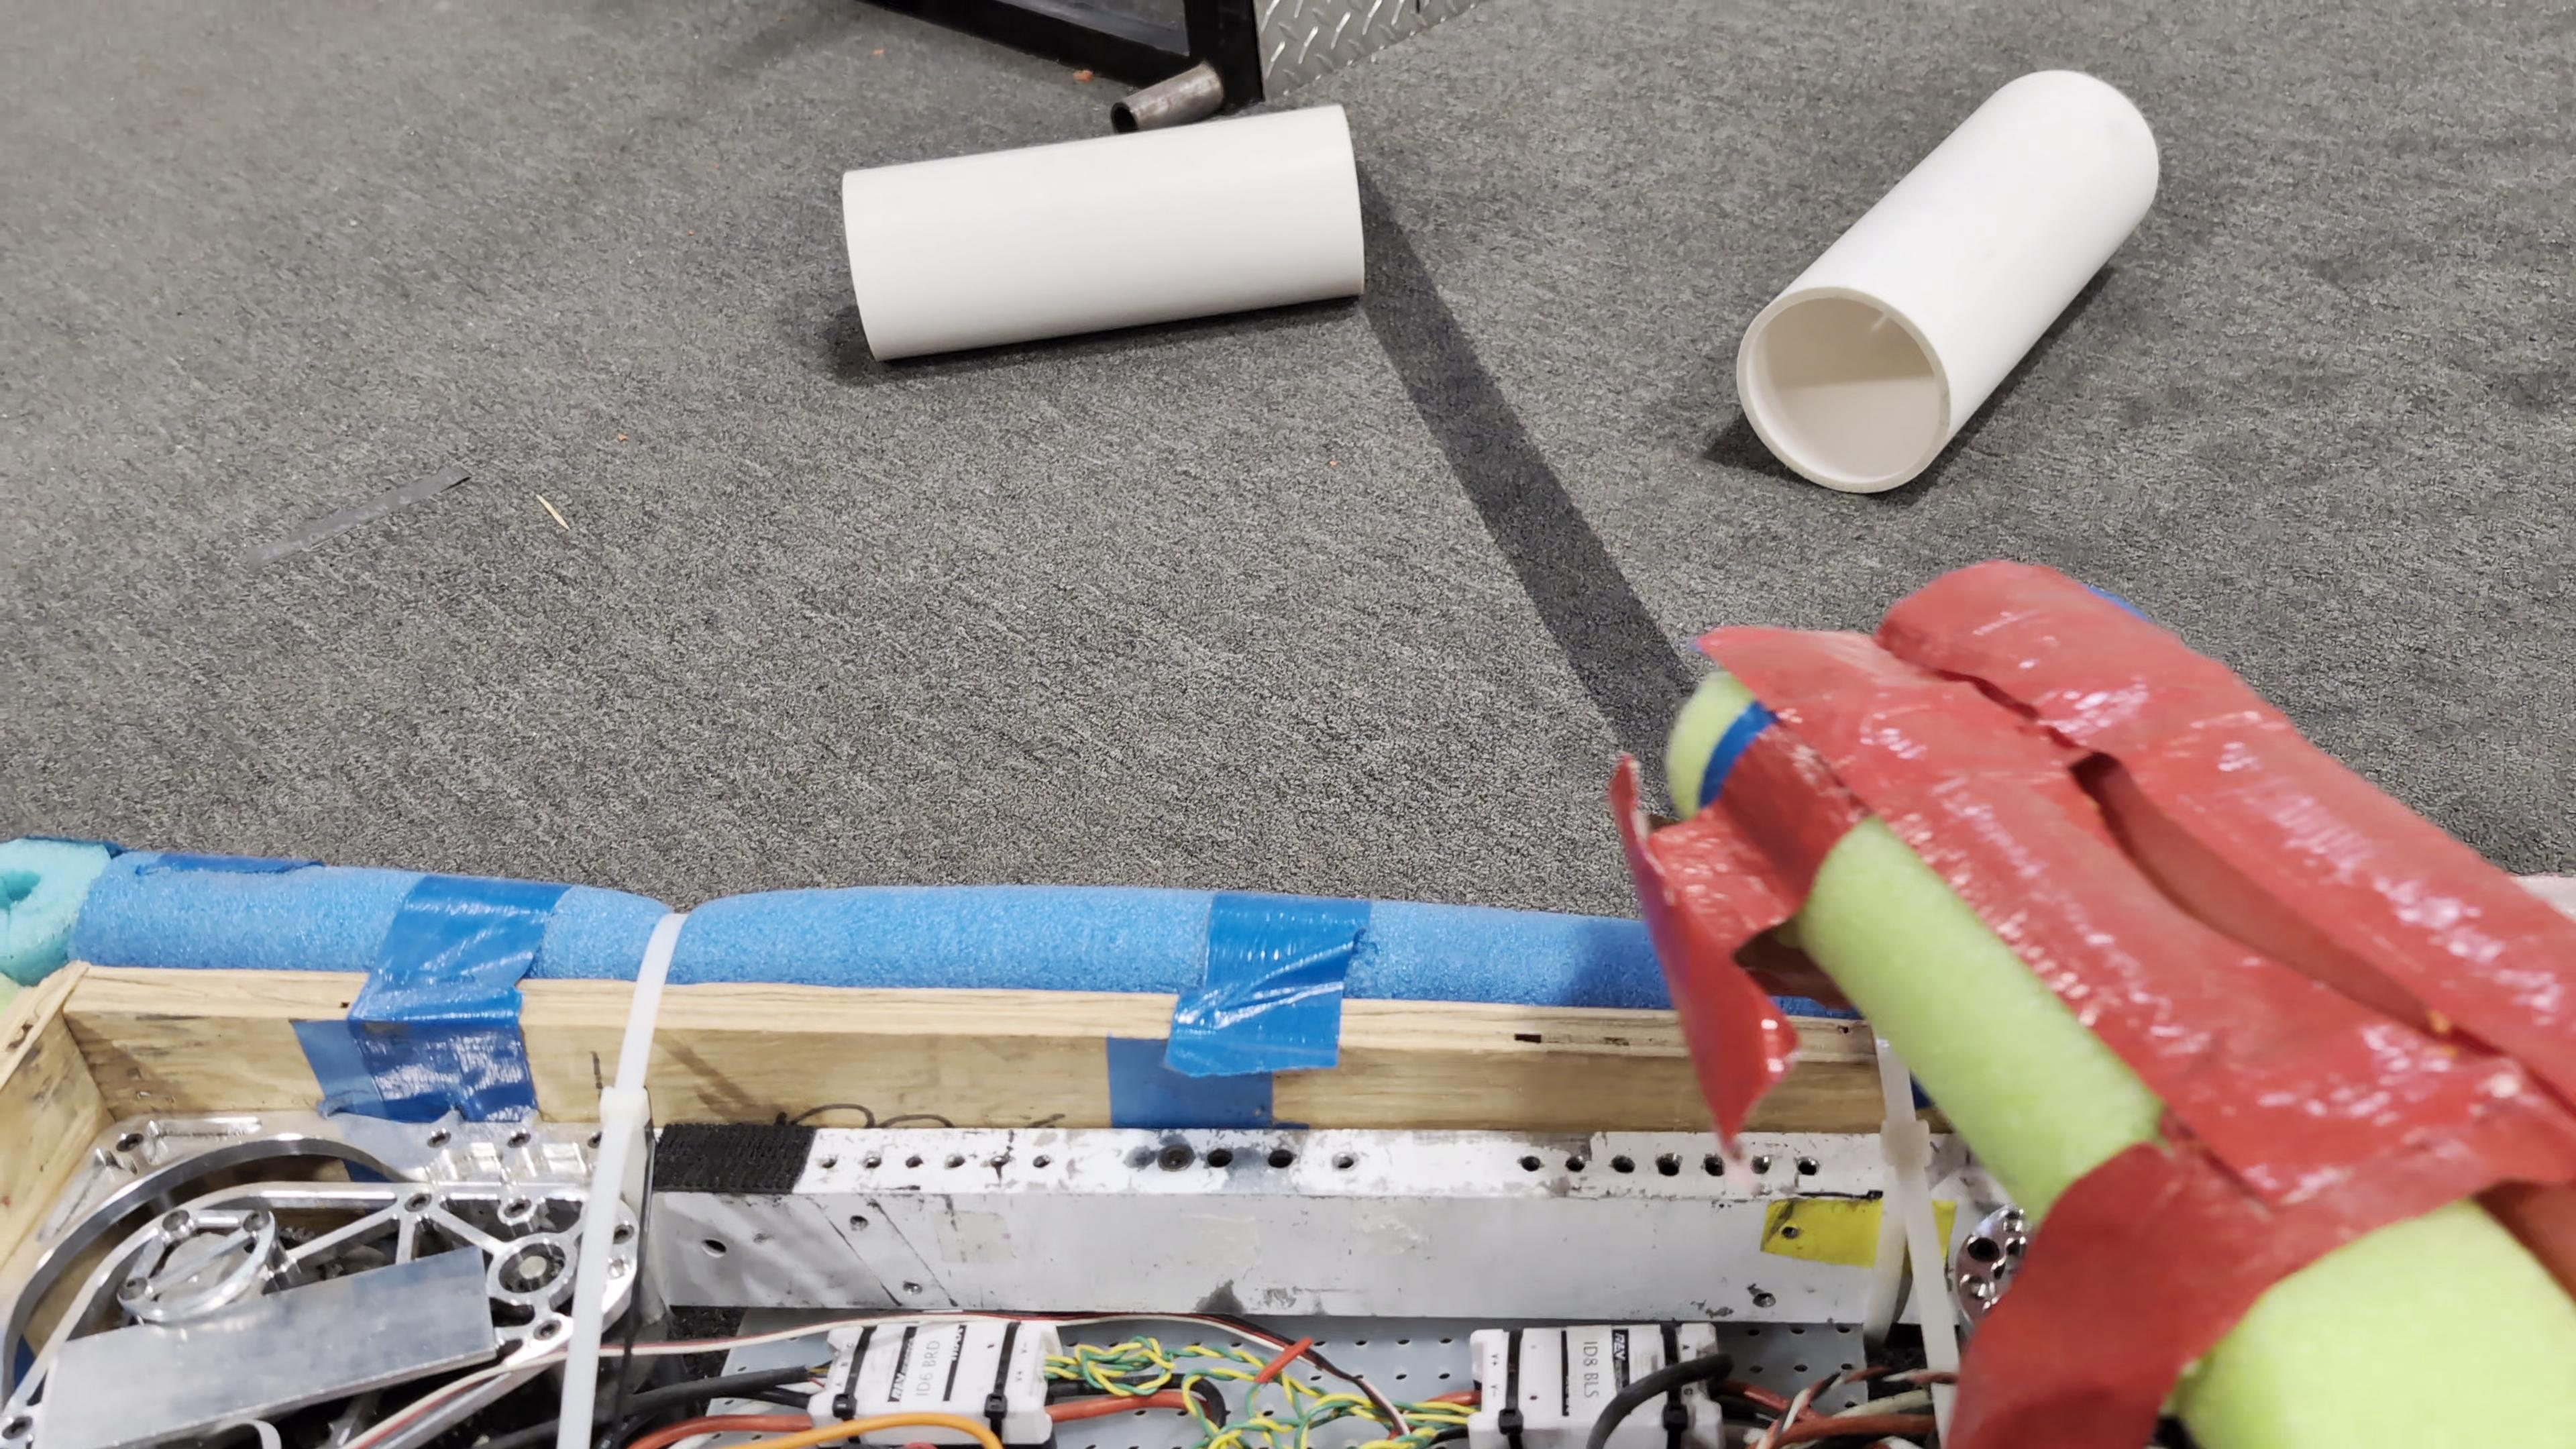coral: (1736, 64, 2164, 494), (840, 97, 1369, 363)
